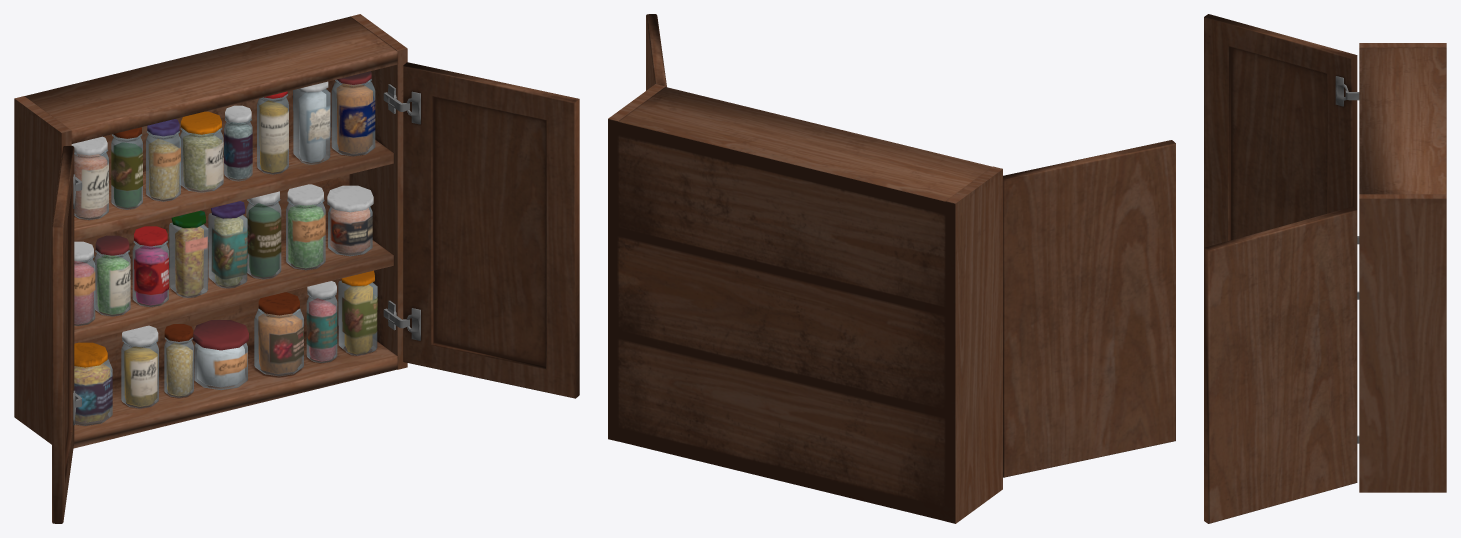
The model's file is kitchen_spice_cabinet__game_ready_model.glb.
The picture shows the model from 3 angles, left to right: view 1: azimuth 30°, elevation 25°; view 2: azimuth 150°, elevation 25°; view 3: azimuth 270°, elevation 25°; orthographic projection. The views are drawn at different scales.
Parts seen in each view (by area): view 1: Cupboard Set; view 2: Cupboard Set; view 3: Cupboard Set.
Boxes of the visible parts, <box> form: Cupboard Set: <box>14,14,579,523</box>; Cupboard Set: <box>608,14,1175,523</box>; Cupboard Set: <box>1204,14,1446,523</box>.
Size of the model in its own units: 1.25 by 0.7205 by 0.5395.
1 material, 1 textured.
